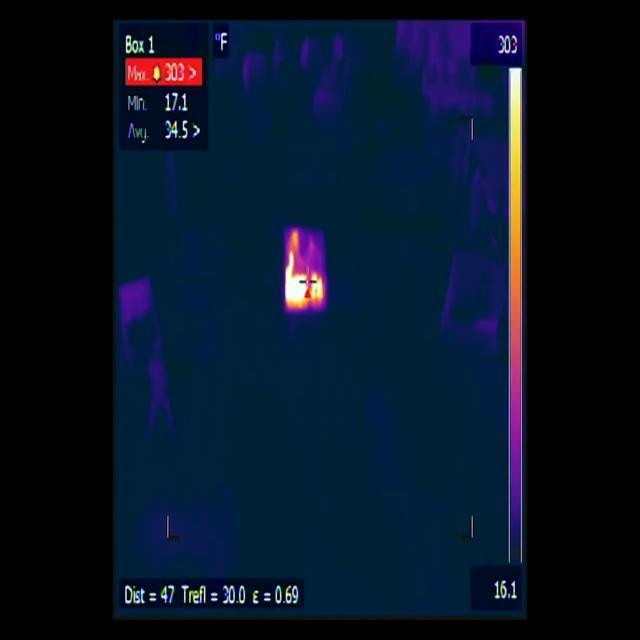fire: (286, 226, 326, 312)
